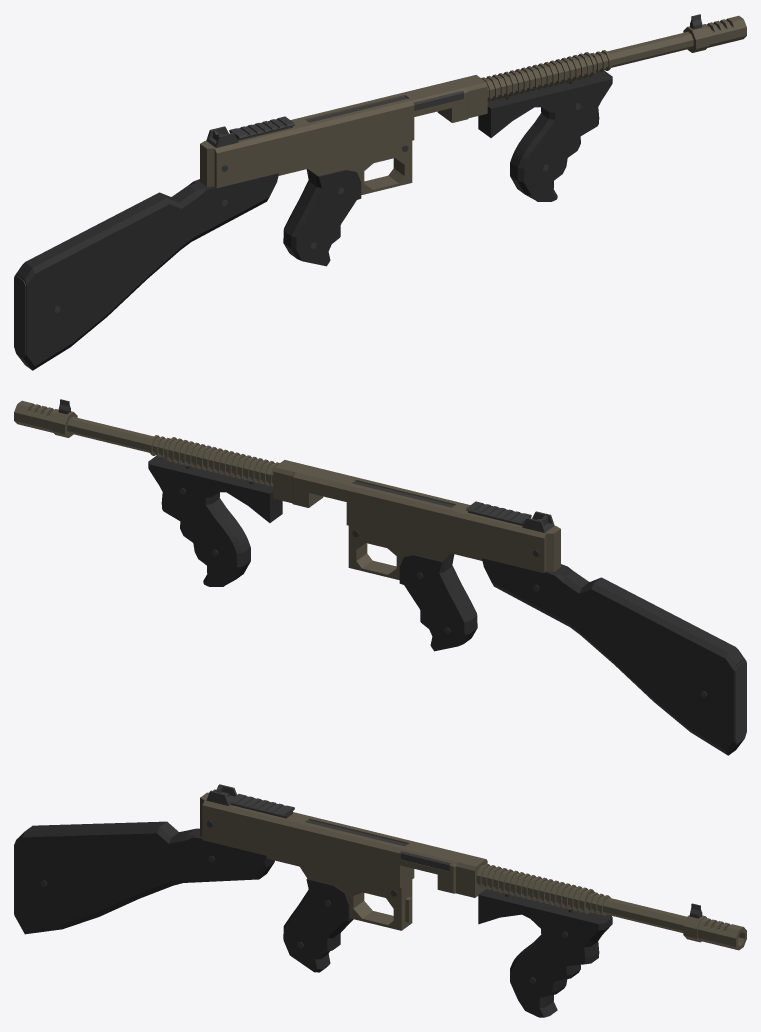
Rendered from LMG4_06.fbx.
3 renders of one model, top to bottom at view 1: azimuth 30°, elevation 25°; view 2: azimuth 150°, elevation 25°; view 3: azimuth 330°, elevation 25°, orthographic.
Visible parts, largest first — view 1: LMG4_06; view 2: LMG4_06; view 3: LMG4_06.
Boxes of the visible parts, x1,y1,x2,y2 form: LMG4_06: (14, 14, 746, 370); LMG4_06: (14, 399, 746, 755); LMG4_06: (14, 784, 746, 1017).
Size of the model in its own units: 0.9676 by 0.2429 by 0.036.
